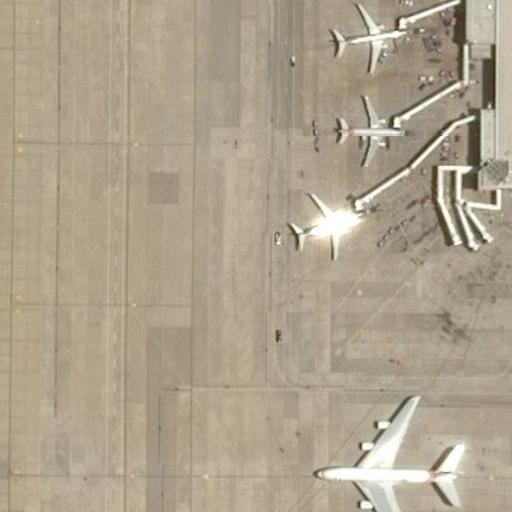Aircraft: (309, 392, 466, 512), (330, 93, 406, 166), (327, 5, 407, 73), (287, 189, 357, 257)
